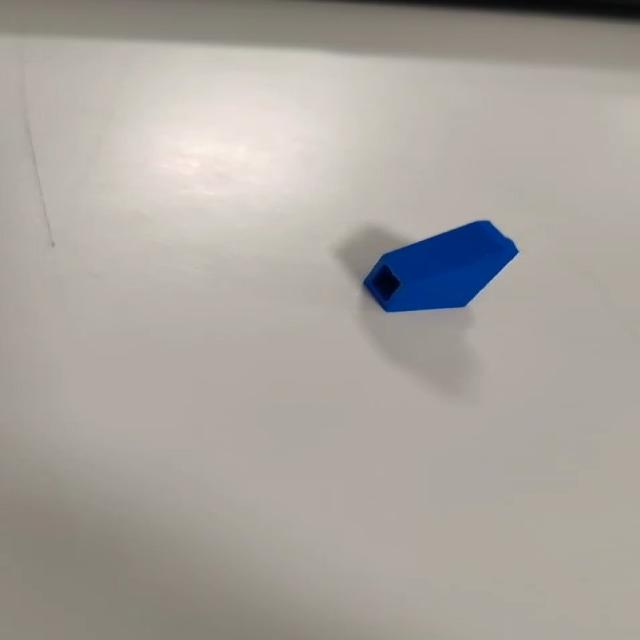X1x2x1: (361, 218, 524, 320)
